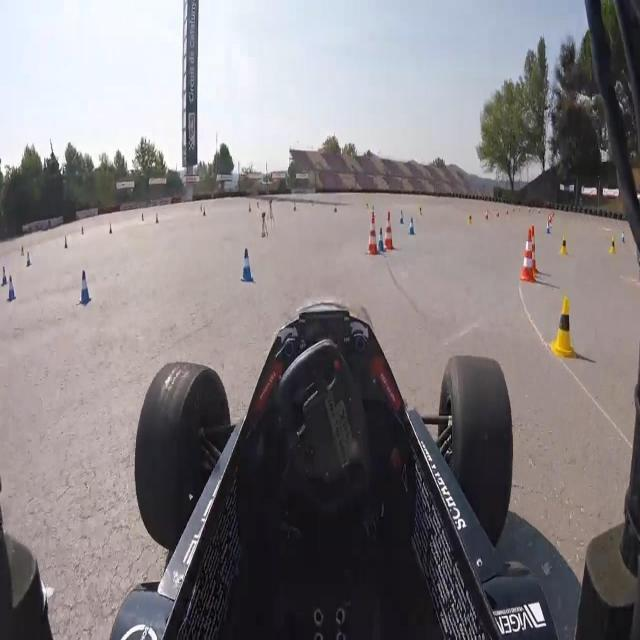blue_cone: (80, 271, 94, 307), (241, 248, 254, 281), (7, 274, 17, 304), (378, 227, 385, 254), (2, 268, 8, 288), (25, 252, 32, 269), (409, 218, 415, 236), (399, 209, 405, 224), (546, 221, 550, 236), (621, 232, 626, 244), (155, 213, 160, 225), (334, 201, 338, 214), (64, 237, 68, 250), (108, 222, 112, 235)
large_orange_cone: (518, 232, 536, 281), (529, 226, 540, 279), (366, 210, 377, 256), (385, 212, 394, 250)
orange_cone: (484, 208, 489, 220), (496, 210, 500, 219), (549, 219, 552, 228)
yellow_cone: (550, 297, 577, 358), (559, 235, 569, 258), (608, 238, 617, 256), (467, 213, 472, 226), (365, 200, 370, 212), (21, 244, 25, 257), (418, 206, 422, 216), (81, 226, 85, 236)
